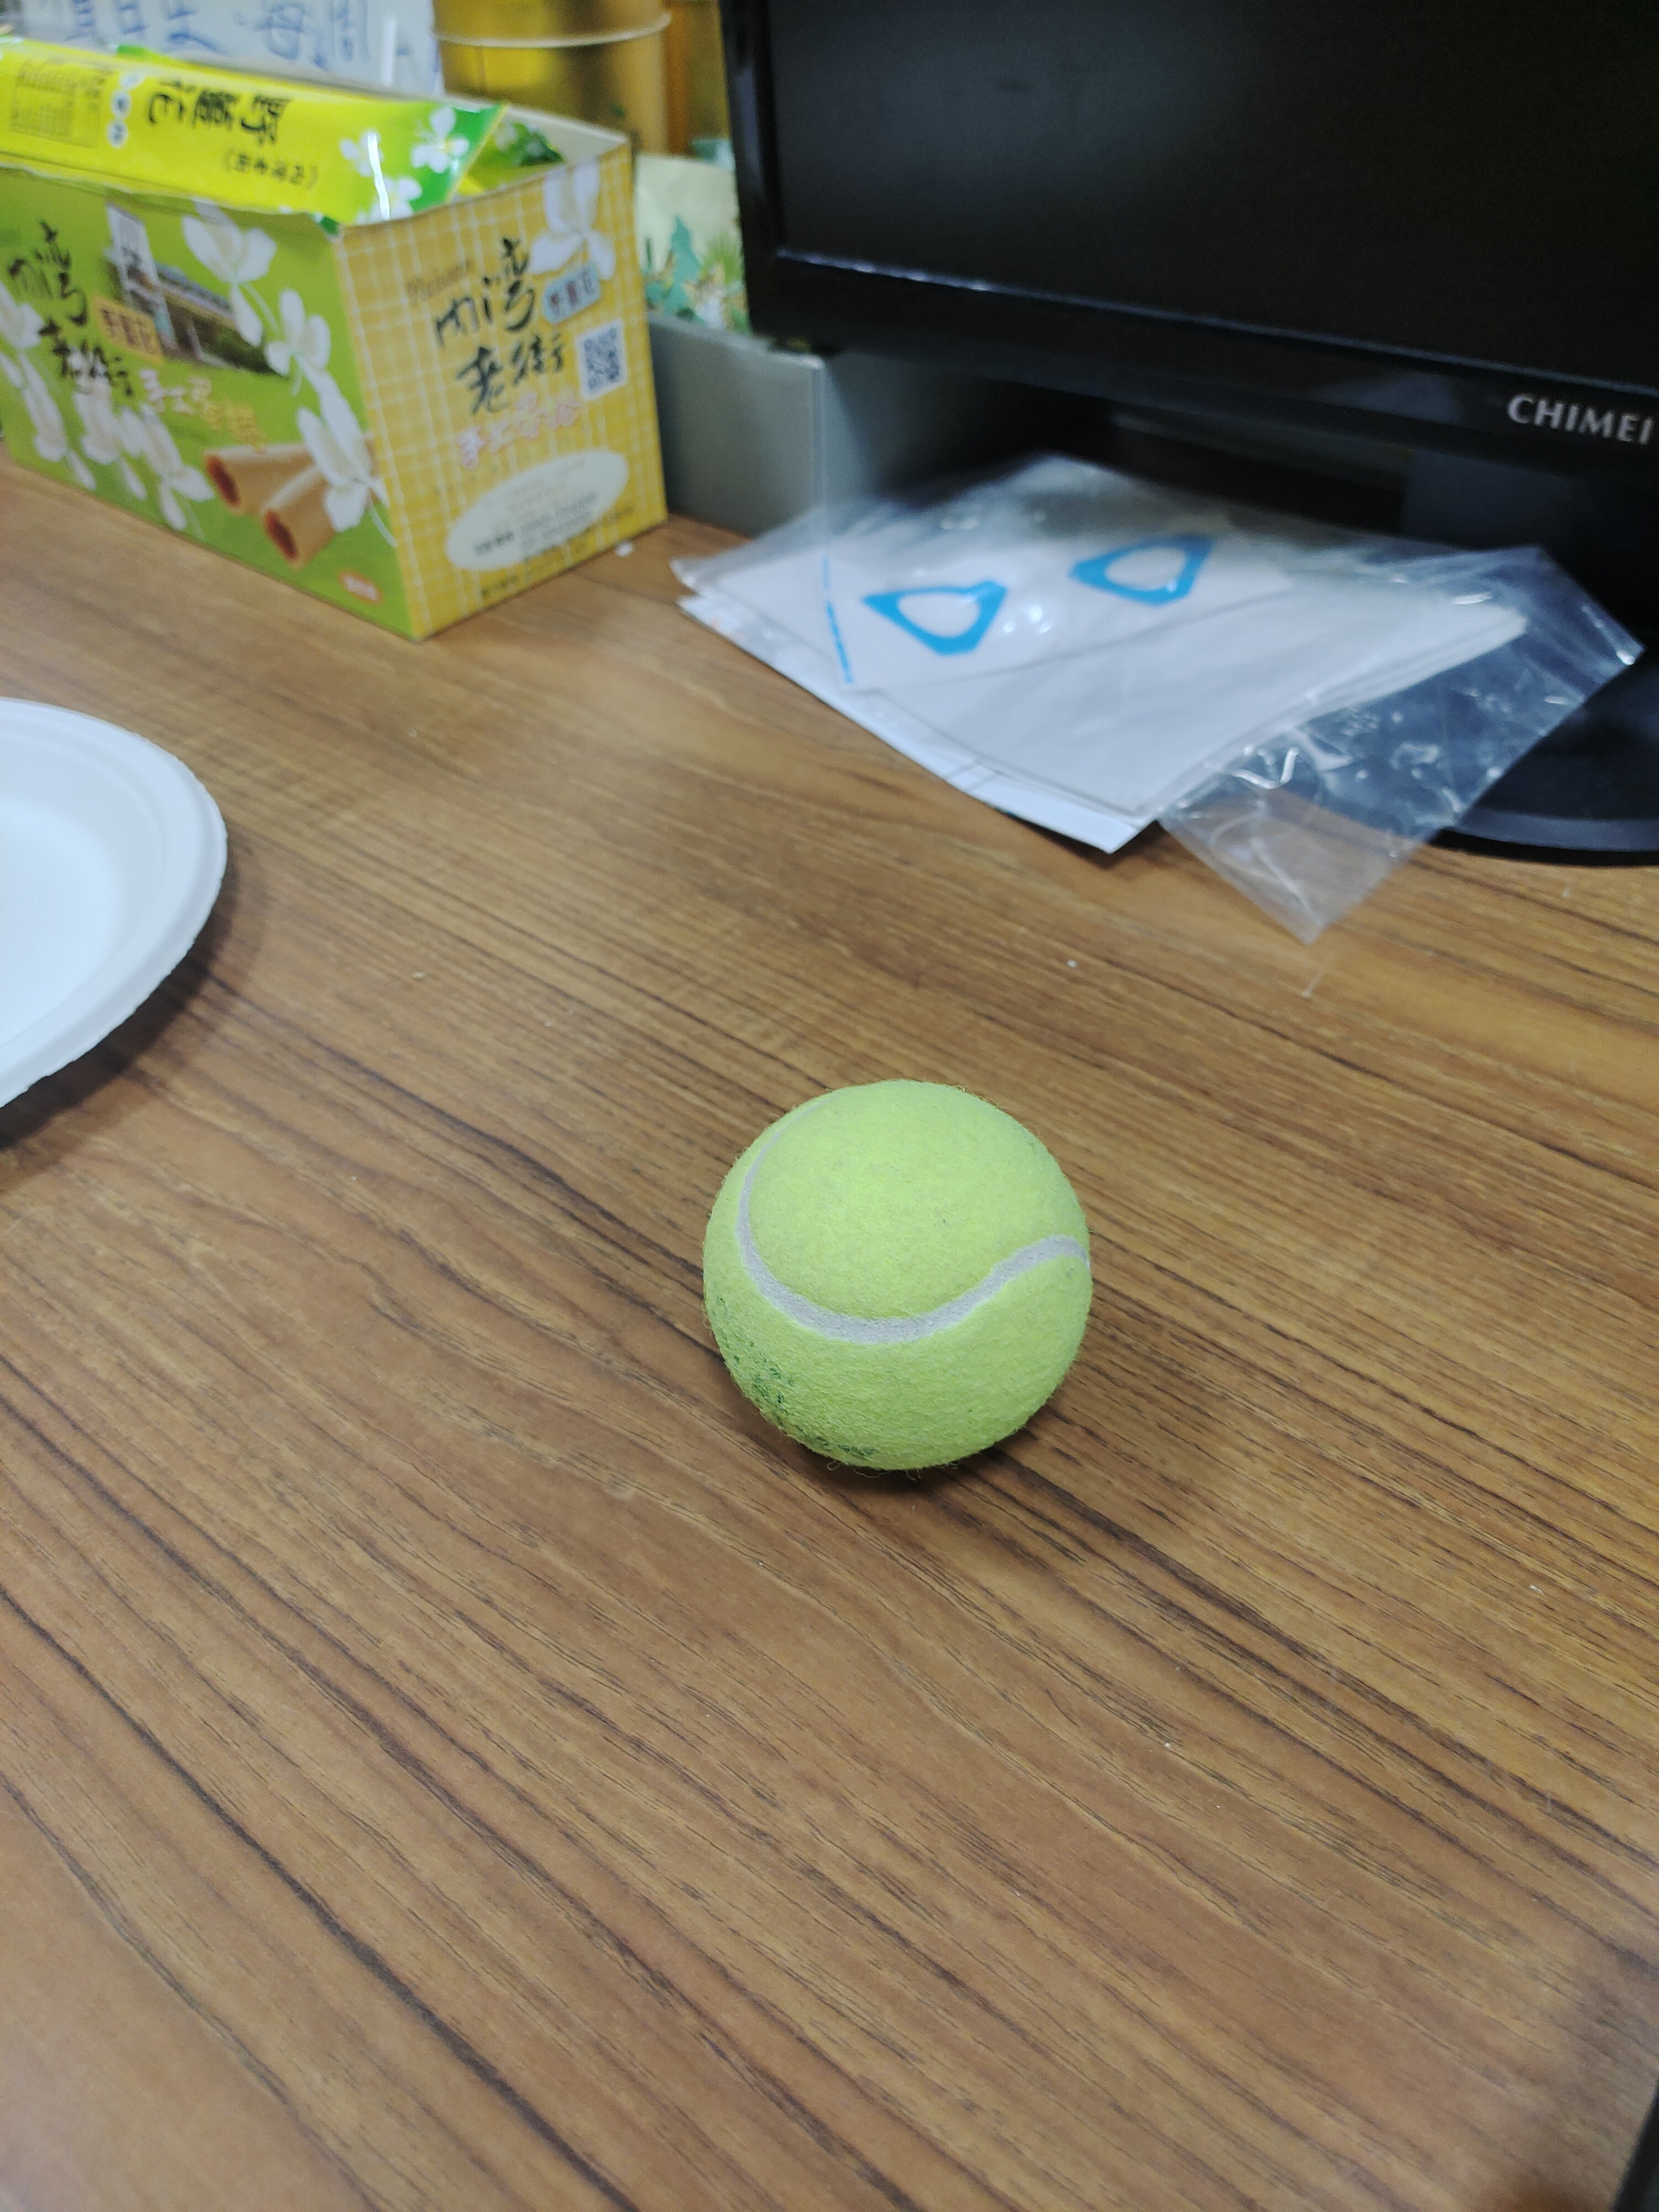tennis: (692, 1073, 1105, 1500)
